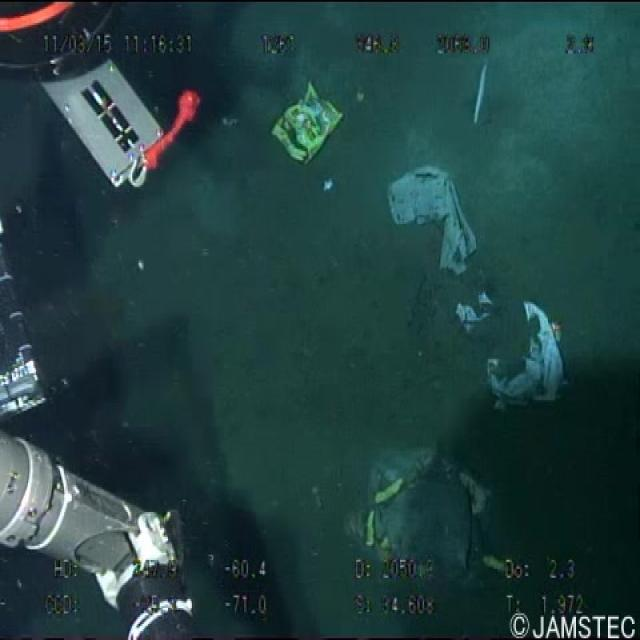plastic: (449, 279, 574, 421), (378, 158, 478, 276), (264, 73, 348, 174)
